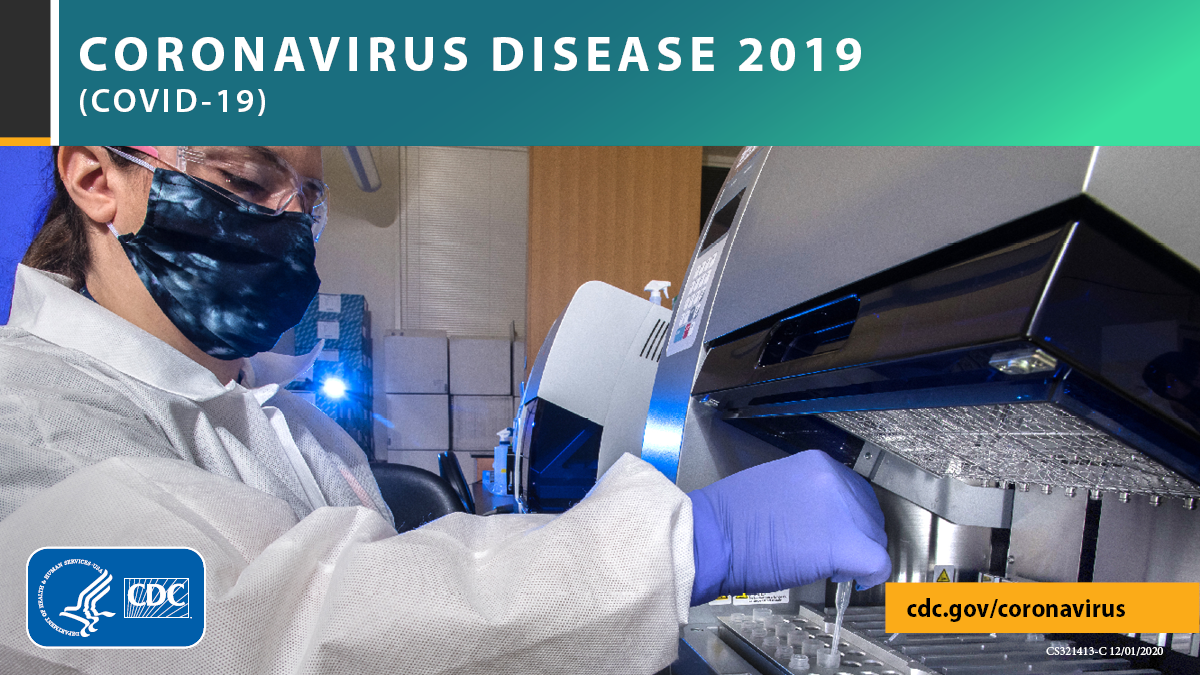Gloves: (664, 439, 897, 598)
with_mask: (133, 145, 328, 365)
